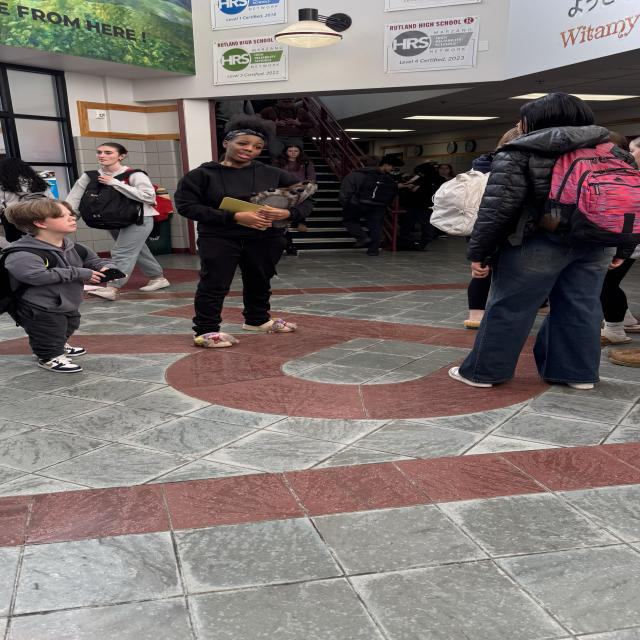pen: (86, 268, 126, 284), (476, 256, 492, 276), (402, 182, 407, 188)
